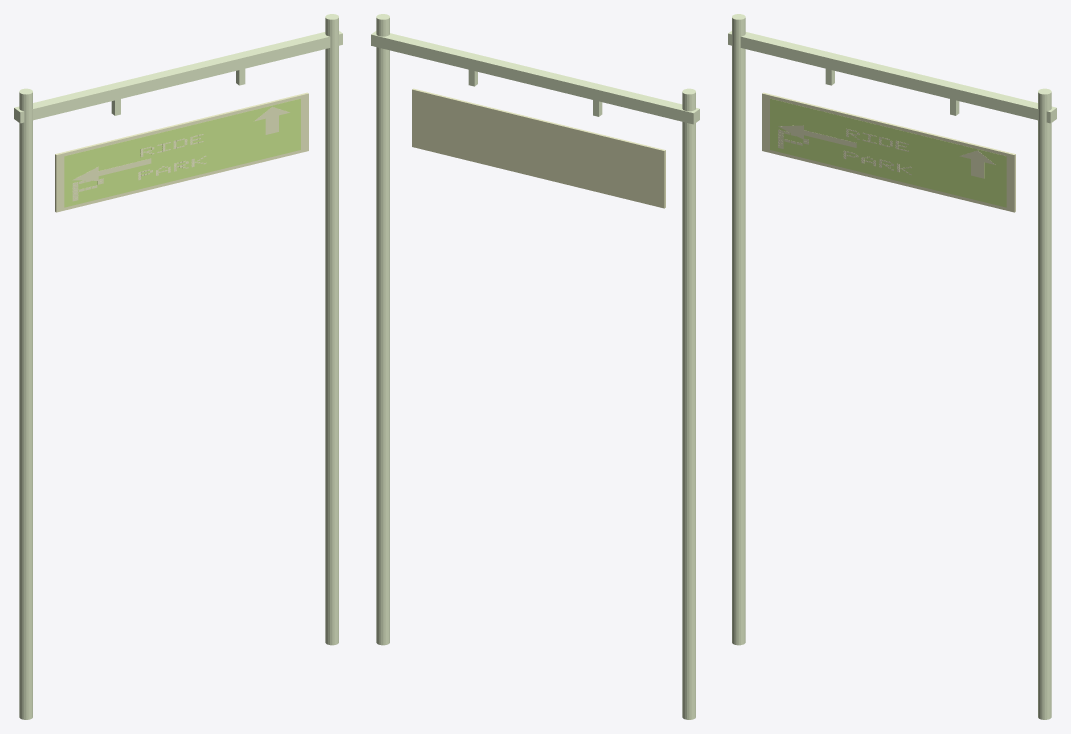
Rendered from sign_overhead_park_ride_left.glb.
3 views of the same model, side by side, from view 1: azimuth 30°, elevation 25°; view 2: azimuth 150°, elevation 25°; view 3: azimuth 330°, elevation 25° (orthographic).
Parts seen in each view (by area): view 1: layer_1_00, pole_right, pole_left, crossbar, plate_base_00; view 2: plate_base_00, pole_left, pole_right, crossbar; view 3: layer_1_00, pole_left, pole_right, crossbar, plate_base_00.
Boxes of the visible parts, bbox=[...] form: layer_1_00: bbox=[64, 98, 300, 207]; pole_right: bbox=[325, 14, 338, 645]; pole_left: bbox=[19, 88, 32, 719]; crossbar: bbox=[14, 31, 342, 123]; plate_base_00: bbox=[55, 92, 308, 212]; plate_base_00: bbox=[412, 88, 665, 208]; pole_left: bbox=[682, 88, 695, 719]; pole_right: bbox=[376, 14, 389, 645]; crossbar: bbox=[371, 31, 699, 124]; layer_1_00: bbox=[770, 98, 1006, 207]; pole_left: bbox=[732, 14, 745, 645]; pole_right: bbox=[1038, 88, 1051, 719]; crossbar: bbox=[728, 31, 1056, 123]; plate_base_00: bbox=[762, 92, 1015, 212].
Bounding box in the file's own units: 2.7 × 5 × 0.108.
